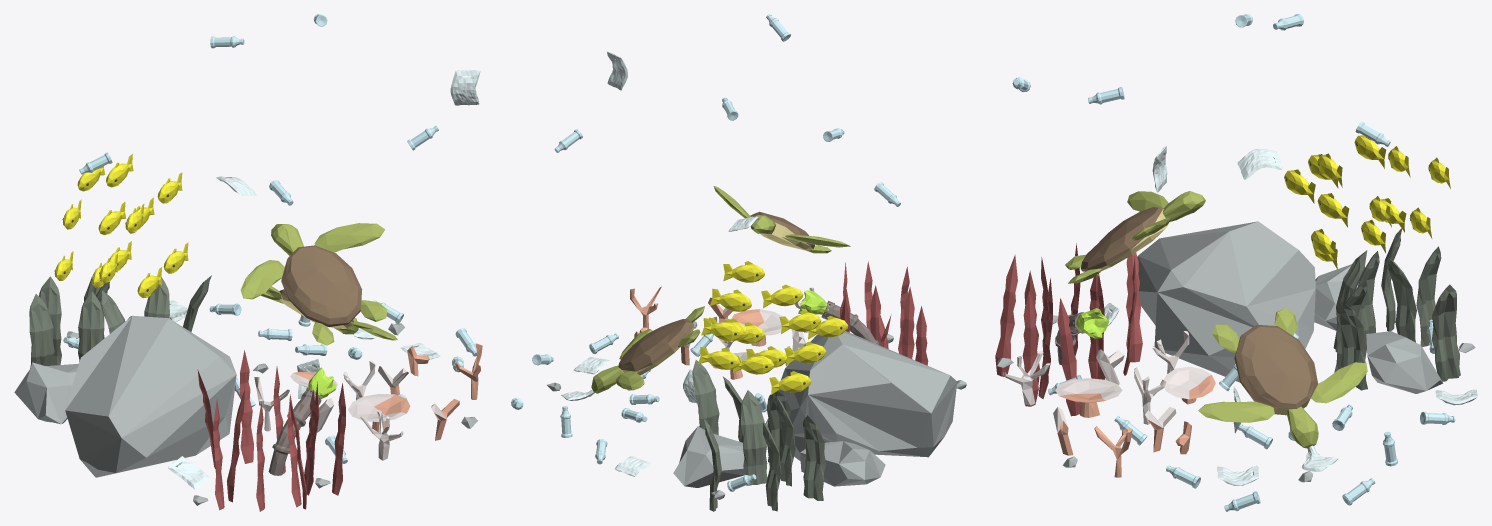
File: objects_bosque.glb
3 renders of one model, left to right at view 1: azimuth 30°, elevation 25°; view 2: azimuth 150°, elevation 25°; view 3: azimuth 270°, elevation 25°, orthographic. The views are drawn at different scales.
Visible parts, largest first — view 1: Object_14, Object_3, Object_17, Object_4, Object_9, Object_8, Object_2, Object_12, Object_16, Object_11, Object_13, Object_15; view 2: Object_14, Object_17, Object_9, Object_2, Object_3, Object_8, Object_4, Object_16, Object_11, Object_12, Object_5, Object_13 (+1 smaller); view 3: Object_14, Object_17, Object_3, Object_4, Object_8, Object_9, Object_2, Object_12, Object_16, Object_11, Object_15, Object_5.
Part boxes in pixels (box(x1,y1,x2,y2)): Object_14: box(14, 315, 477, 505); Object_3: box(197, 350, 345, 511); Object_17: box(29, 266, 211, 368); Object_4: box(279, 245, 362, 326); Object_9: box(54, 154, 188, 298); Object_8: box(240, 223, 397, 345); Object_2: box(63, 14, 477, 463); Object_12: box(254, 361, 446, 460); Object_16: box(168, 70, 480, 489); Object_11: box(293, 343, 482, 440); Object_13: box(268, 389, 321, 475); Object_15: box(308, 367, 336, 399); Object_14: box(547, 321, 966, 499); Object_17: box(692, 360, 825, 511); Object_9: box(698, 261, 848, 394); Object_2: box(511, 14, 900, 491); Object_3: box(840, 261, 928, 365); Object_8: box(591, 186, 850, 393); Object_4: box(618, 211, 814, 371); Object_16: box(561, 51, 759, 476); Object_11: box(630, 286, 766, 379); Object_12: box(684, 287, 814, 366); Object_5: box(620, 216, 812, 375); Object_13: box(821, 300, 879, 344); Object_14: box(997, 221, 1475, 482); Object_17: box(1333, 228, 1460, 390); Object_3: box(995, 243, 1142, 416); Object_4: box(1080, 207, 1317, 408); Object_8: box(1065, 191, 1367, 448); Object_9: box(1284, 135, 1450, 269); Object_2: box(1012, 14, 1455, 511); Object_12: box(1002, 331, 1211, 432); Object_16: box(1104, 145, 1477, 485); Object_11: box(1057, 375, 1215, 477); Object_15: box(1076, 308, 1109, 338); Object_5: box(1100, 209, 1311, 415).
Size of the model in its own units: 14.88 by 13.07 by 13.96.
